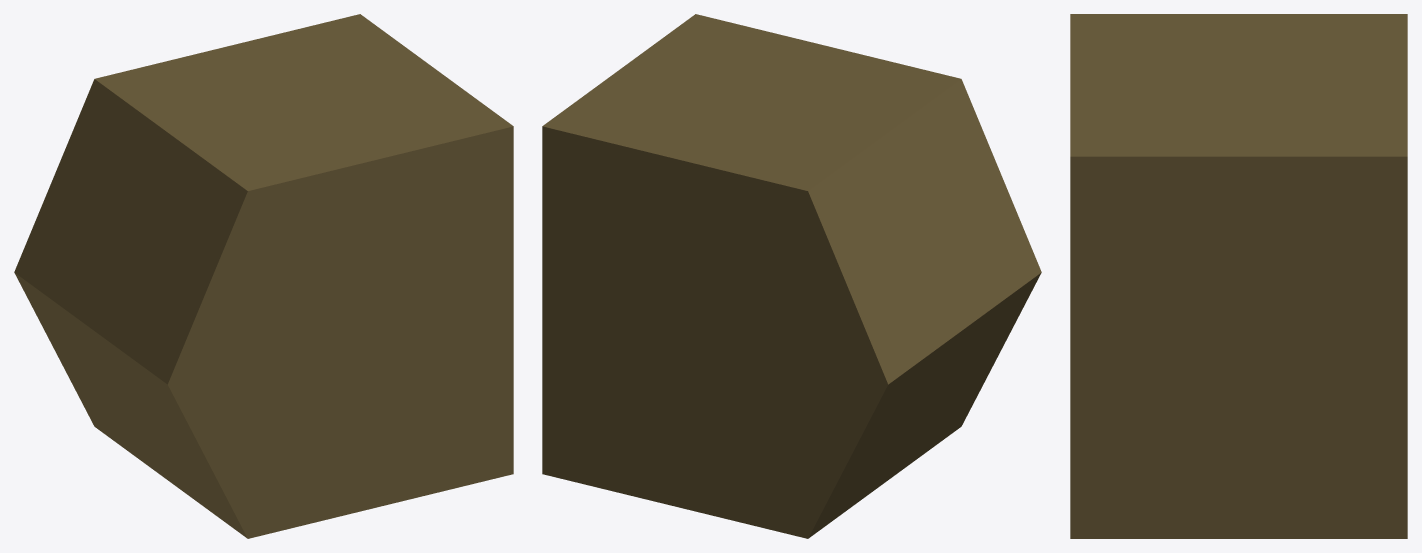
The model's file is chart_obstacle_005.obj.
3 views of the same model, side by side, from view 1: azimuth 30°, elevation 25°; view 2: azimuth 150°, elevation 25°; view 3: azimuth 270°, elevation 25° (orthographic). The views are drawn at different scales.
Parts seen in each view (by area): view 1: chart_obstacle_005; view 2: chart_obstacle_005; view 3: chart_obstacle_005.
Part boxes in pixels (box(x1,y1,x2,y2)): chart_obstacle_005: box(14, 14, 513, 538); chart_obstacle_005: box(542, 14, 1041, 538); chart_obstacle_005: box(1070, 14, 1407, 538).
Size of the model in its own units: 10.41 by 10 by 8.
